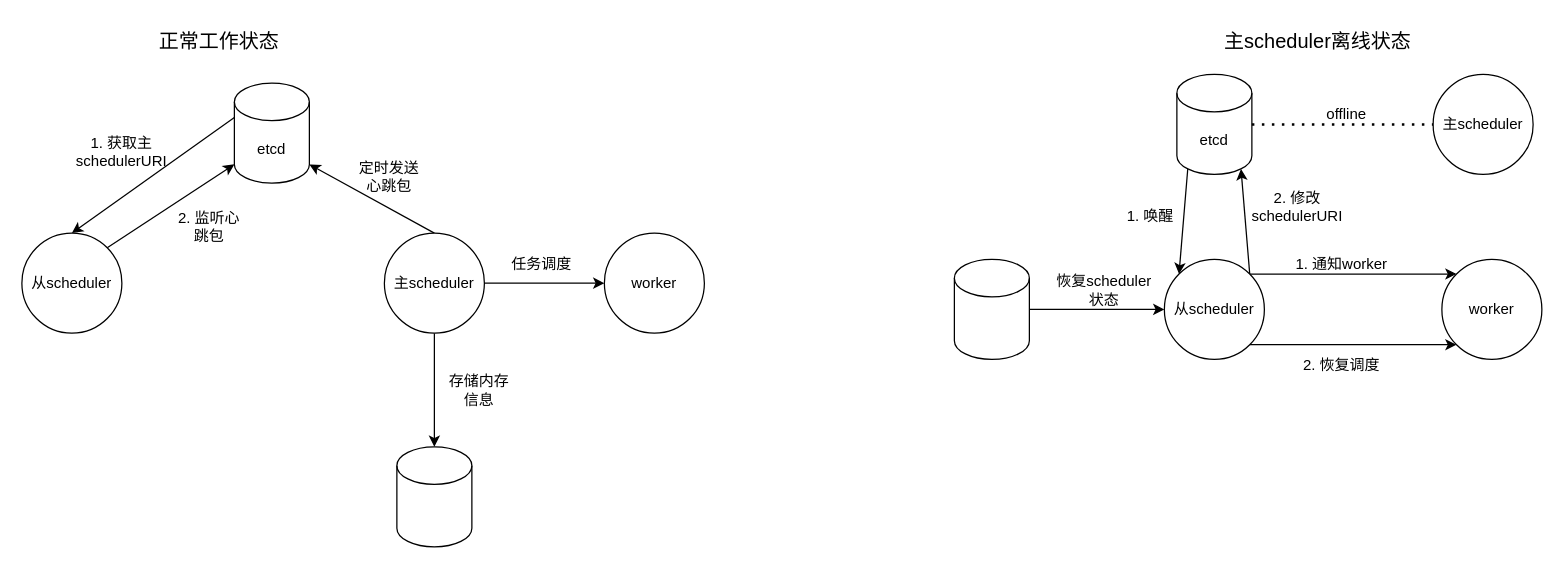
Image size: 1564x569. Some labels were removed from this diagram. The shapes that lost their labels are listed below. From the top down, each one's box as (x1, y1, x2, y2) in pixels, then its label:
(953, 258, 1029, 359): redis
(396, 446, 472, 547): db
